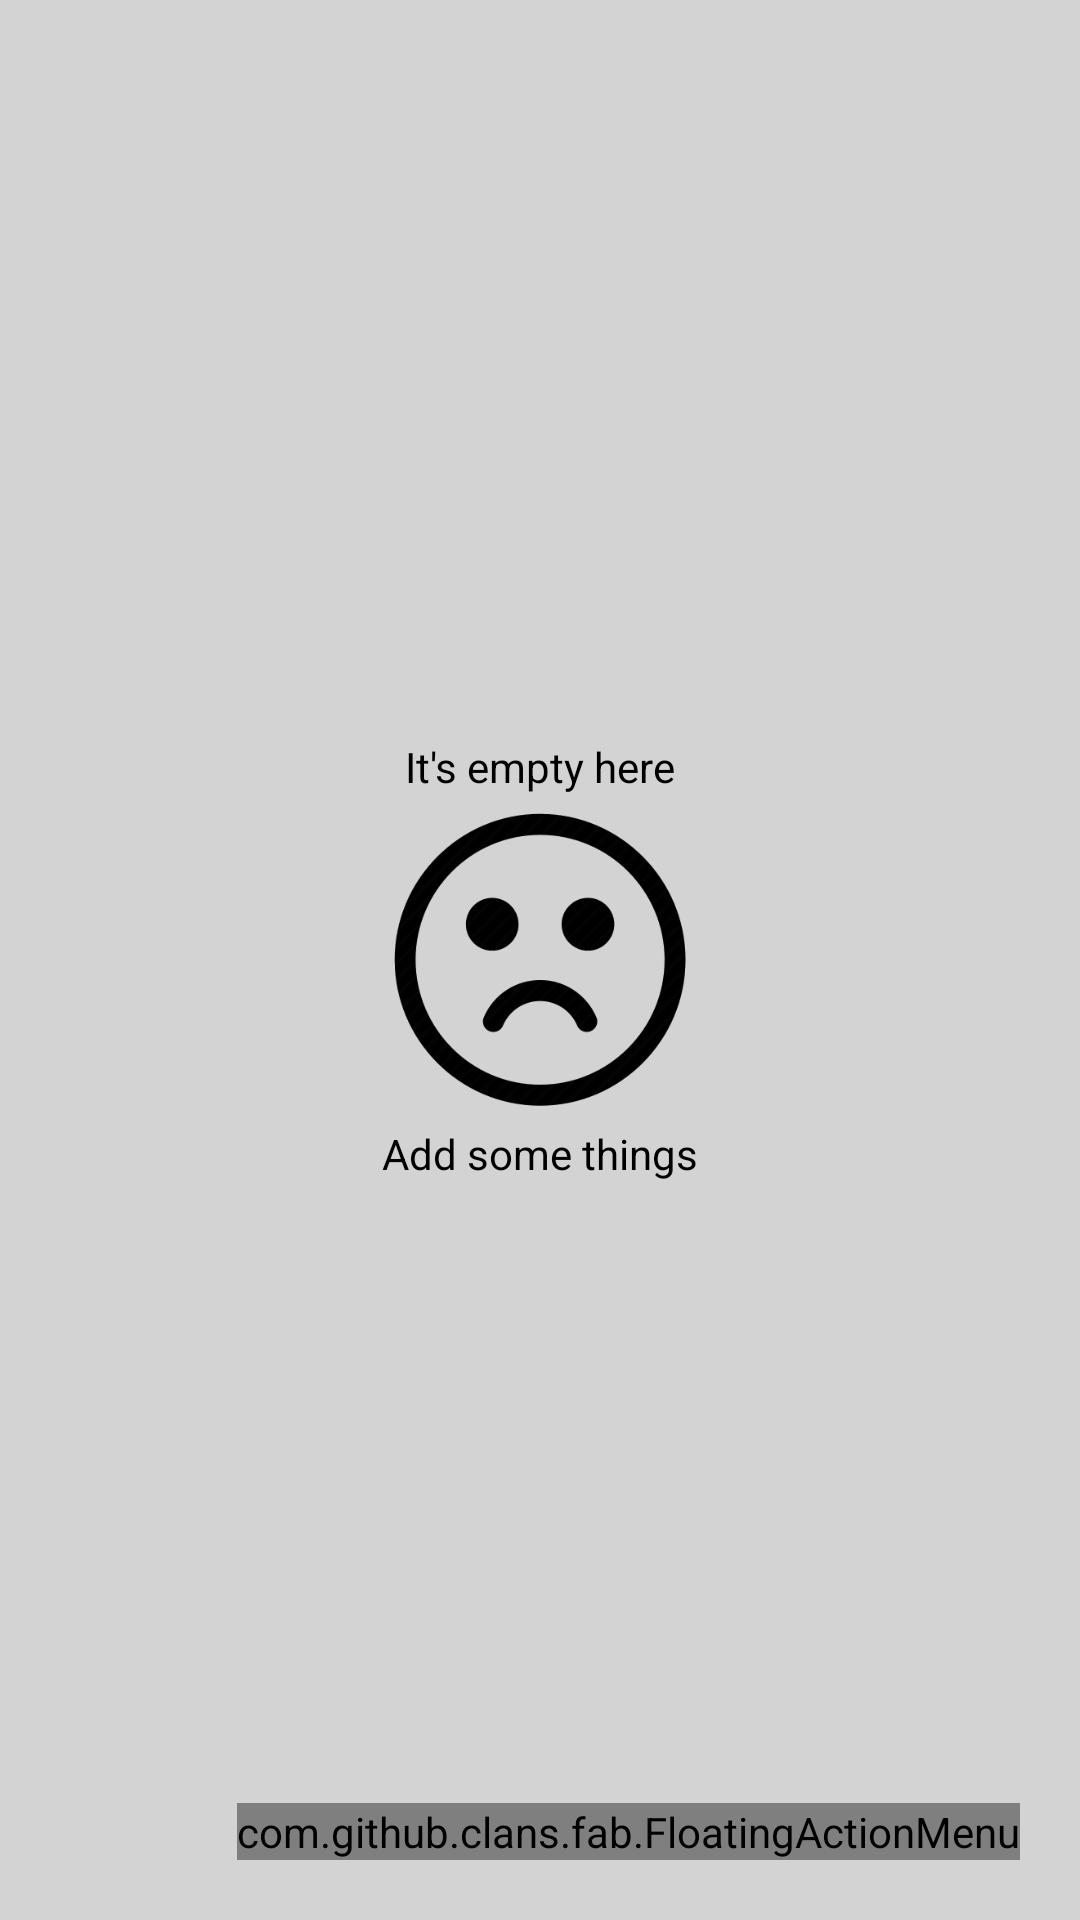

Icons on this 1080px×1920px Android screen, each with the point to tap as point (x, y):
sad face: point (540, 959)
